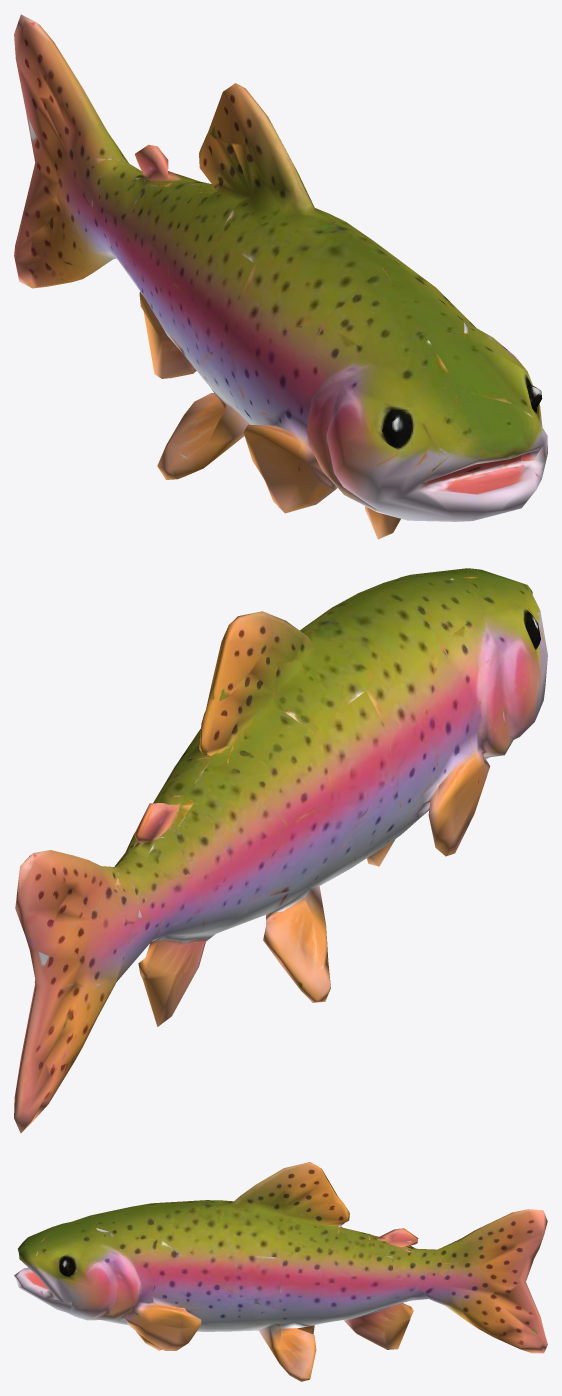
Rendered from trucha-lod.glb.
3 renders of one model, top to bottom at view 1: azimuth 30°, elevation 25°; view 2: azimuth 150°, elevation 25°; view 3: azimuth 270°, elevation 25°, orthographic. The views are drawn at different scales.
Bounding box in the file's own units: 0.4371 × 0.7782 × 1.9.
Materials: 1 (1 with a texture image).
